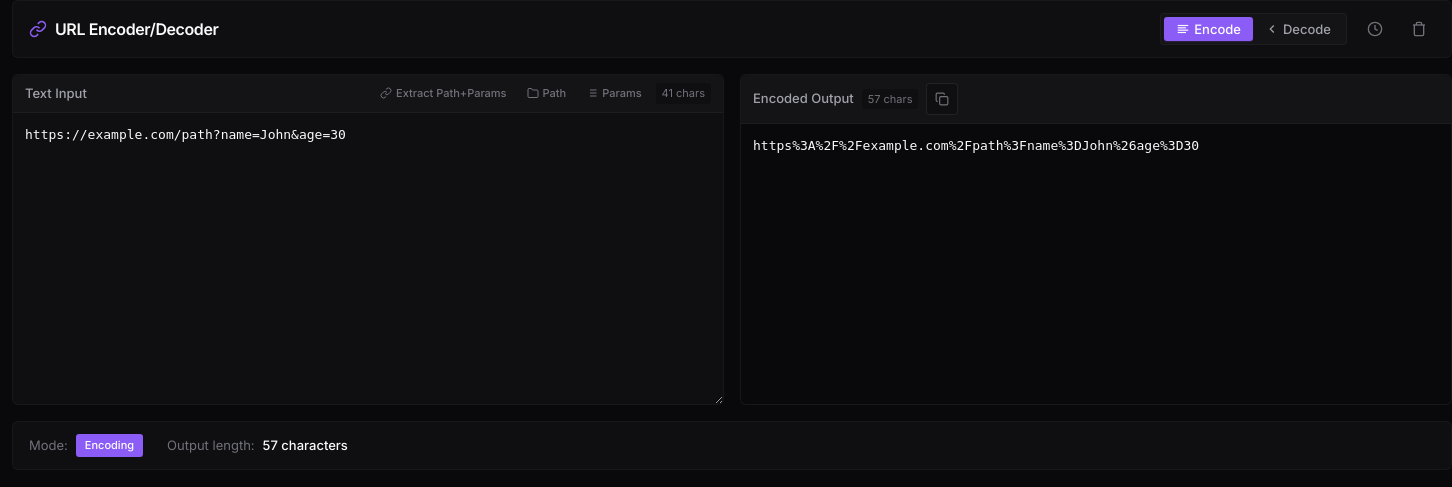
Test: UrlTool › should extract path, query and hash from URL in encode mode
Replace the text in the text box named "text to encode" with "https://example.com/path/to/page?param=value#section" at (368, 258), box top-left (13, 112), bottom-right (723, 404)
Wait 200 ms
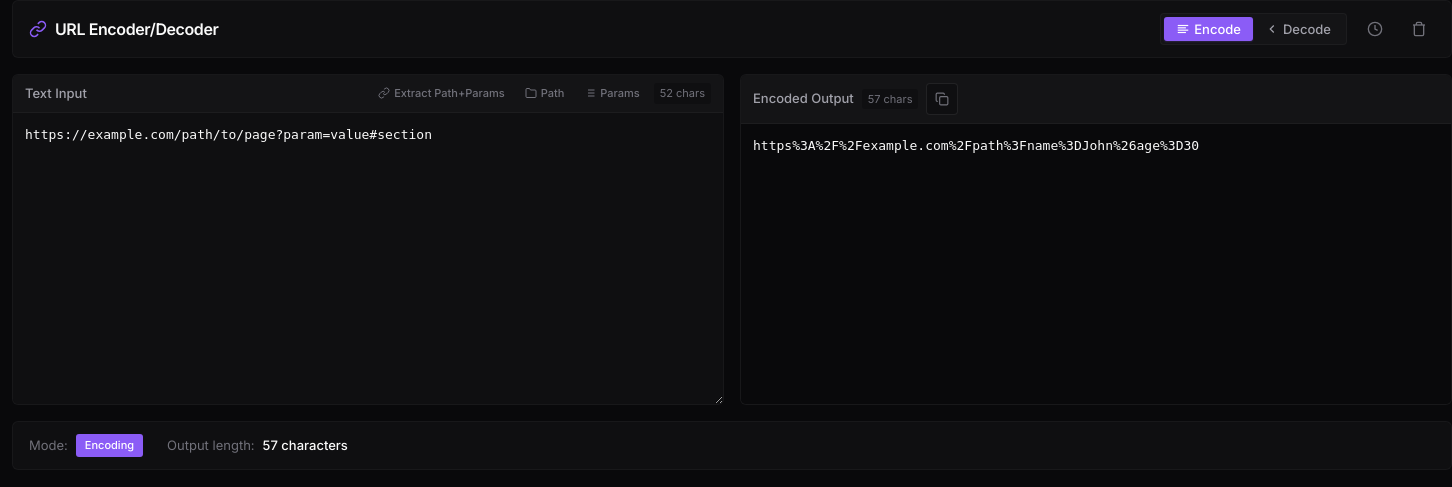
Click the button with aria-label "Extract path, query and hash from URL".
click(441, 93)  # box top-left (372, 84), bottom-right (511, 102)
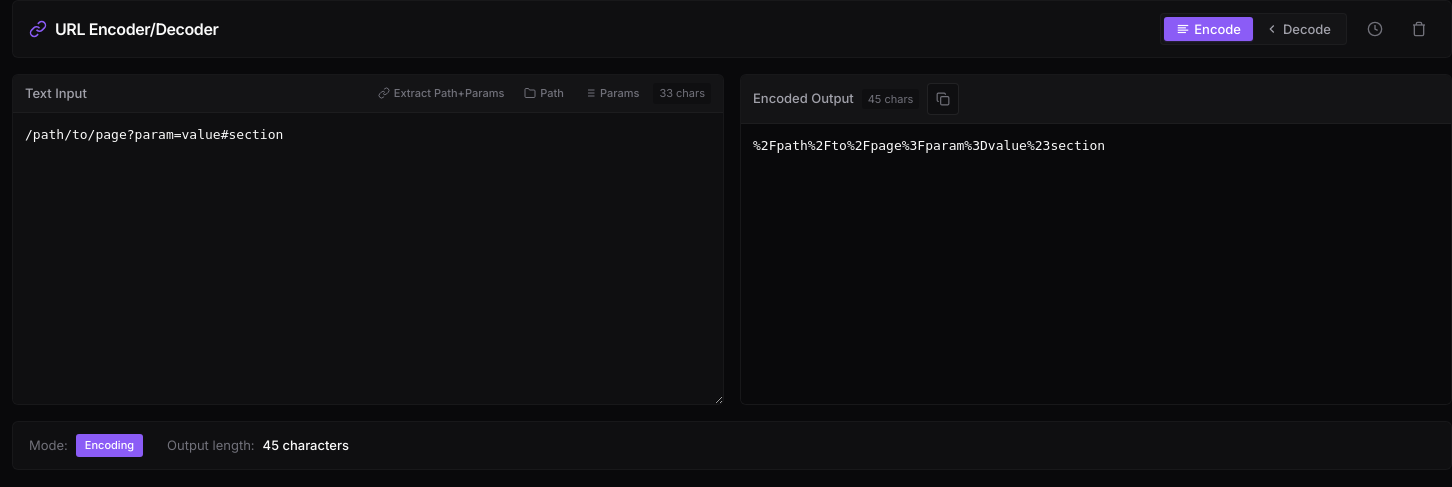
Expected: the text with test id "output-content" reads "%2Fpath%2Fto%2Fpage%3Fparam%3Dvalue%23section", top-left (753, 138), bottom-right (1105, 153)
